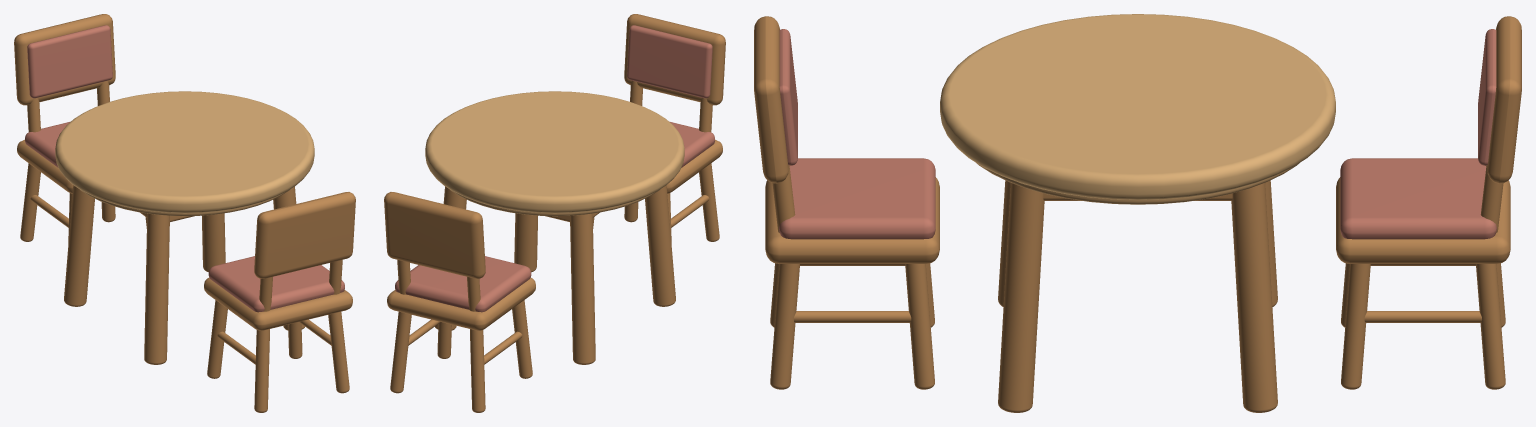
Rendered from dining-round-two.glb.
3 renders of one model, left to right at view 1: azimuth 30°, elevation 25°; view 2: azimuth 150°, elevation 25°; view 3: azimuth 270°, elevation 25°, orthographic. The views are drawn at different scales.
Visible parts, largest first — view 1: dining-round-two table, dining-round-two chair 2, dining-round-two chair 1; view 2: dining-round-two table, dining-round-two chair 1, dining-round-two chair 2; view 3: dining-round-two table, dining-round-two chair 1, dining-round-two chair 2.
Part boxes in pixels (bbox=[...]): dining-round-two table: bbox=[55, 91, 314, 364]; dining-round-two chair 2: bbox=[204, 192, 355, 412]; dining-round-two chair 1: bbox=[14, 14, 146, 243]; dining-round-two table: bbox=[425, 91, 684, 364]; dining-round-two chair 1: bbox=[384, 192, 535, 412]; dining-round-two chair 2: bbox=[593, 14, 725, 243]; dining-round-two table: bbox=[940, 14, 1335, 412]; dining-round-two chair 1: bbox=[1336, 16, 1521, 389]; dining-round-two chair 2: bbox=[754, 16, 939, 389].
Size of the model in its own units: 1 by 0.8608 by 1.94.
